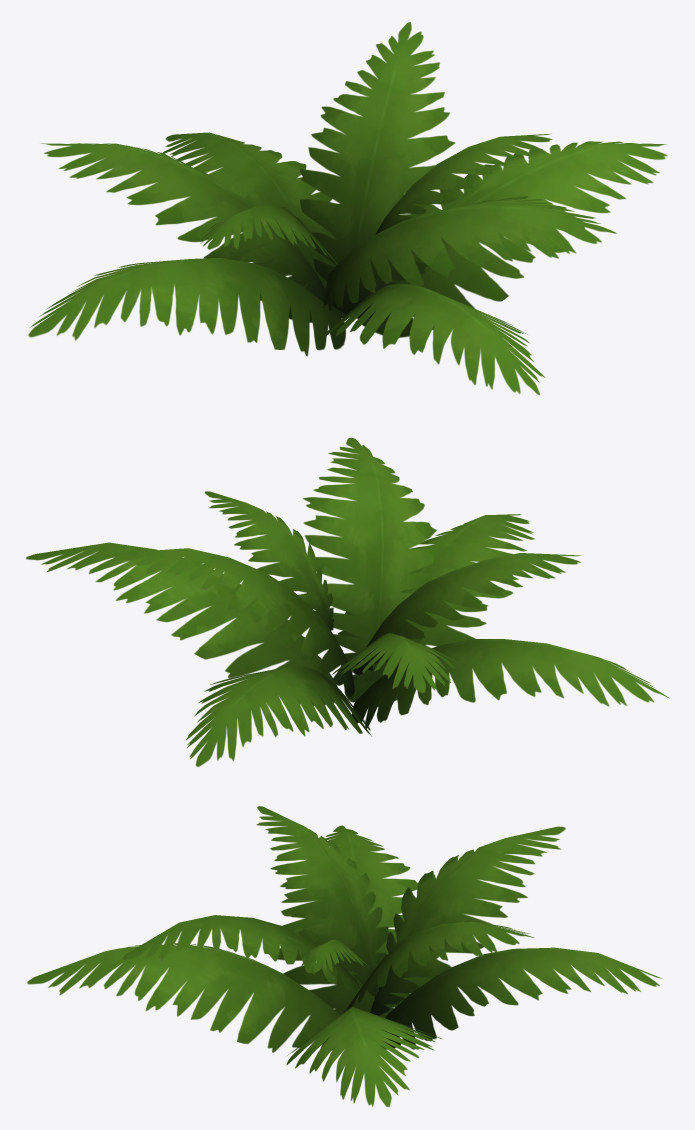
File: fern-transformed.glb
The picture shows the model from 3 angles, top to bottom: view 1: azimuth 30°, elevation 25°; view 2: azimuth 150°, elevation 25°; view 3: azimuth 270°, elevation 25°; orthographic projection. The views are drawn at different scales.
Parts seen in each view (by area): view 1: Fern_1; view 2: Fern_1; view 3: Fern_1.
Part boxes in pixels (x1=…): Fern_1: x1=28, y1=22, x2=667, y2=395; Fern_1: x1=25, y1=437, x2=669, y2=766; Fern_1: x1=27, y1=806, x2=661, y2=1107.
Bounding box in the file's own units: 9.05 × 2.69 × 8.49.
1 material, 1 textured.
